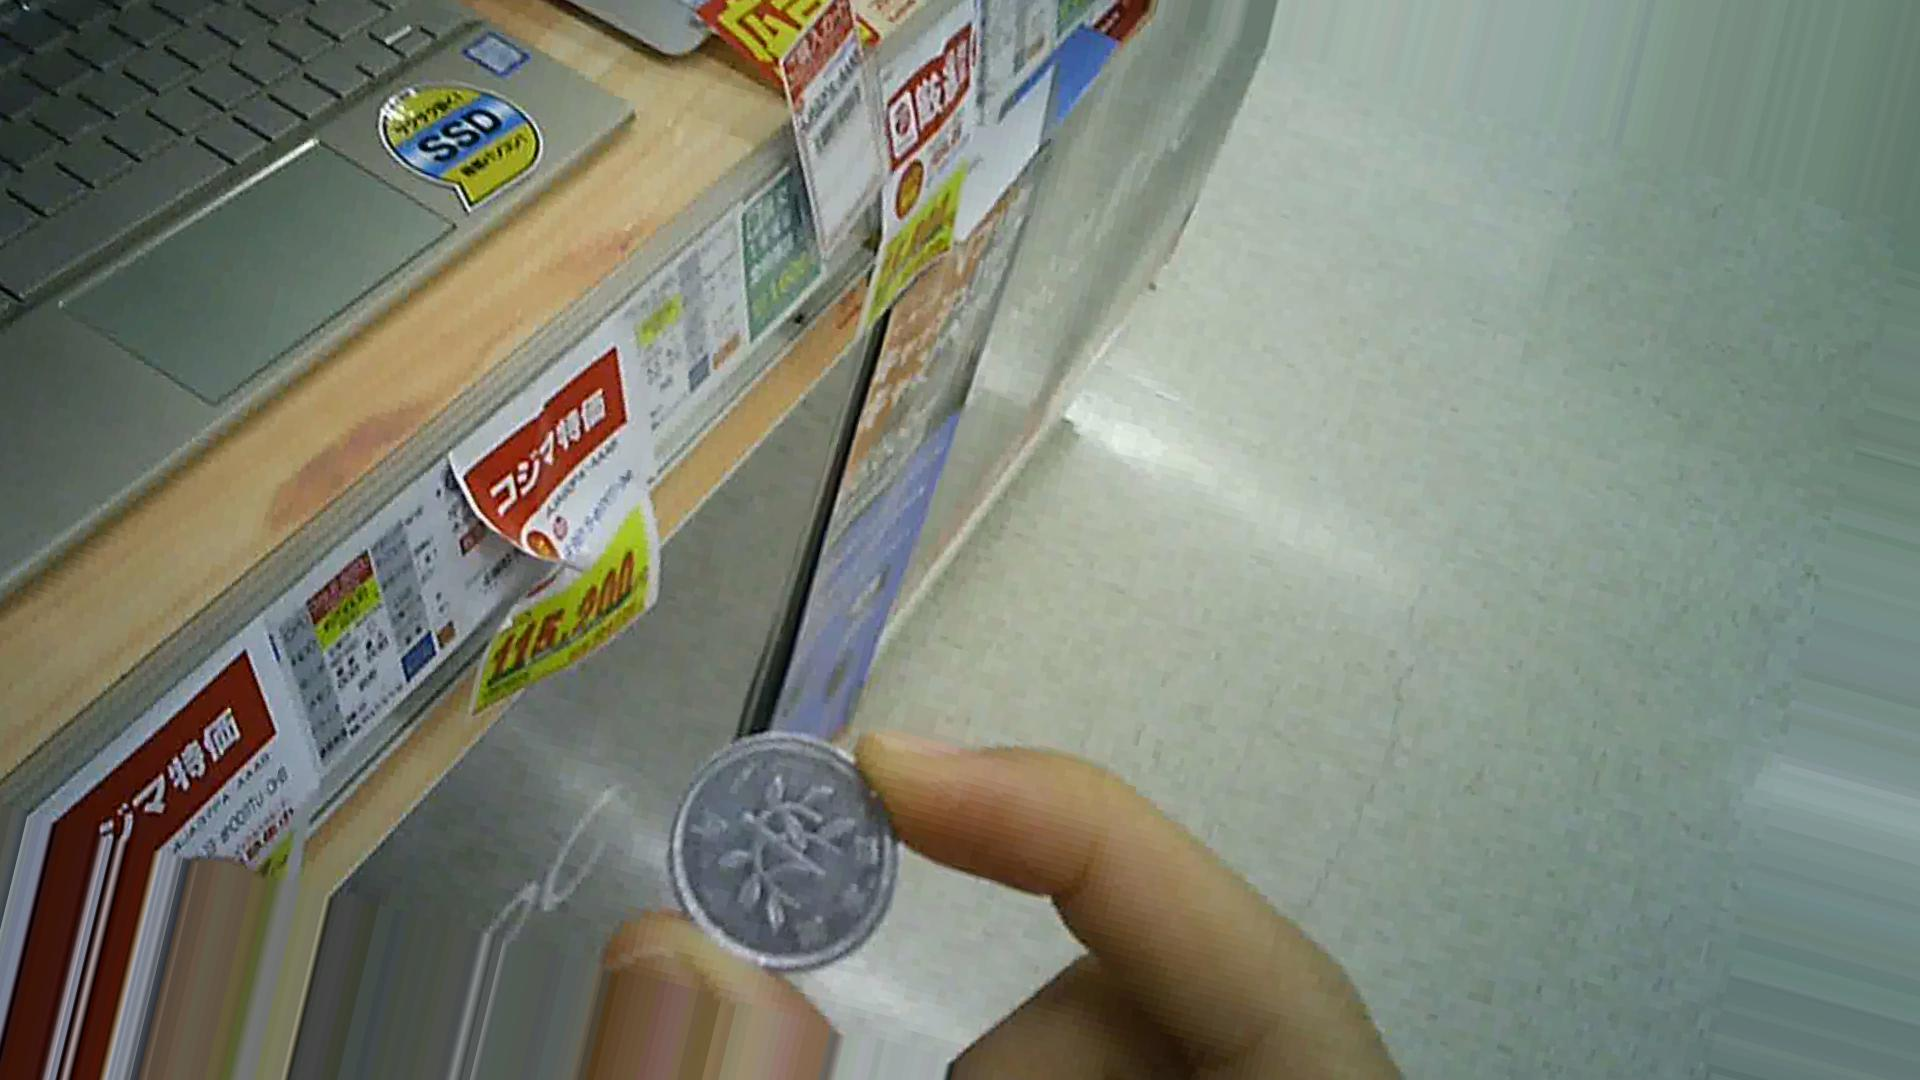1 Yen: (669, 721, 914, 967)
